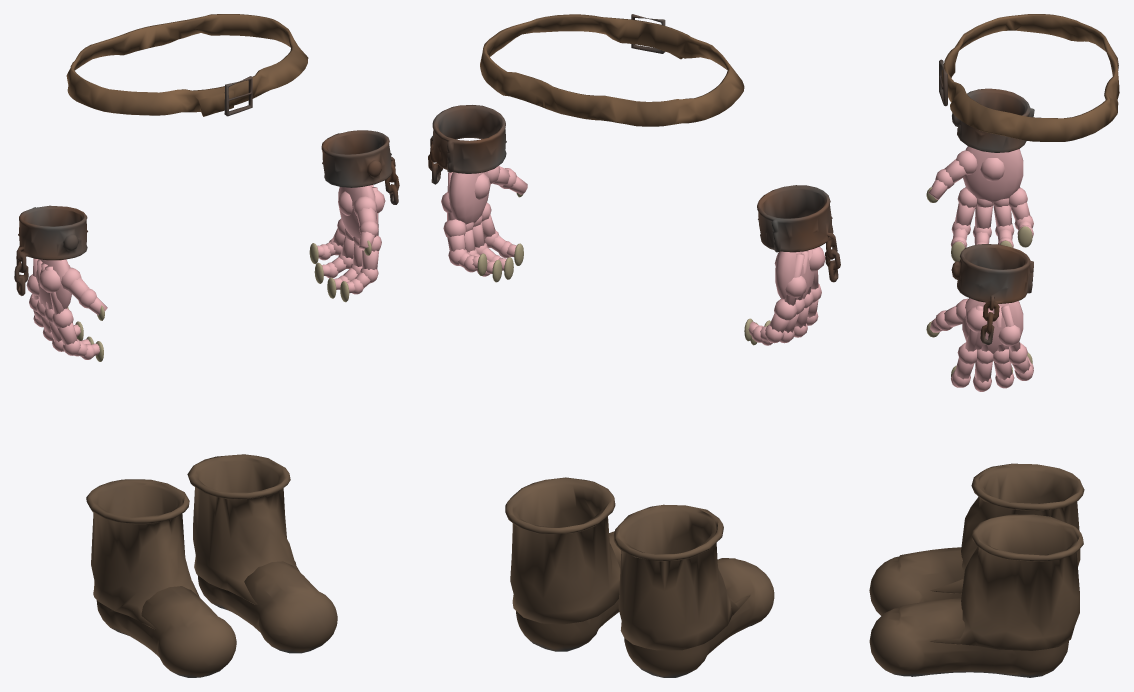
File: zombie-parts.glb
3 renders of one model, left to right at view 1: azimuth 30°, elevation 25°; view 2: azimuth 150°, elevation 25°; view 3: azimuth 270°, elevation 25°, orthographic. The views are drawn at different scales.
Parts seen in each view (by area): view 1: shin.r|boot, shin.l|boot, pelvis|belt, foot.r|boot, foot.l|boot, foreArm.l|hand, foreArm.r|hand, foreArm.l|shackle, foreArm.r|shackle; view 2: shin.r|boot, shin.l|boot, pelvis|belt, foreArm.l|hand, foot.r|boot, foreArm.r|shackle, foreArm.l|shackle, foreArm.r|hand, foot.l|boot; view 3: shin.l|boot, foot.l|boot, pelvis|belt, foreArm.r|hand, shin.r|boot, foreArm.l|hand, foreArm.l|shackle, foot.r|boot, foreArm.r|shackle.
Part boxes in pixels (x1,y1,x2,y2): shin.r|boot: (86,479,199,629); shin.l|boot: (187,454,299,604); pelvis|belt: (66,14,308,116); foot.r|boot: (96,586,236,677); foot.l|boot: (197,561,337,653); foreArm.l|hand: (309,185,385,302); foreArm.r|hand: (26,258,107,361); foreArm.l|shackle: (321,130,399,204); foreArm.r|shackle: (14,205,87,295); shin.r|boot: (613,504,750,650); shin.l|boot: (505,477,620,624); pelvis|belt: (480,14,744,126); foreArm.l|hand: (441,165,527,282); foot.r|boot: (624,558,774,677); foreArm.r|shackle: (757,185,840,282); foreArm.l|shackle: (428,105,506,184); foreArm.r|hand: (744,247,825,345); foot.l|boot: (516,531,621,651); shin.l|boot: (930,514,1083,650); foot.l|boot: (869,598,1068,677); pelvis|belt: (941,14,1119,141); foreArm.r|hand: (926,146,1033,261); shin.r|boot: (930,463,1084,593); foreArm.l|hand: (926,298,1033,391); foreArm.l|shackle: (951,244,1033,344); foot.r|boot: (869,547,964,615); foreArm.r|shackle: (952,88,1034,152).
Size of the model in its own units: 0.7595 by 1.07 by 0.4148.
